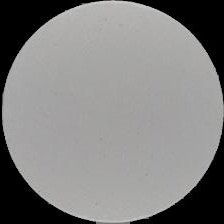55289-823: (0, 0, 224, 224)
